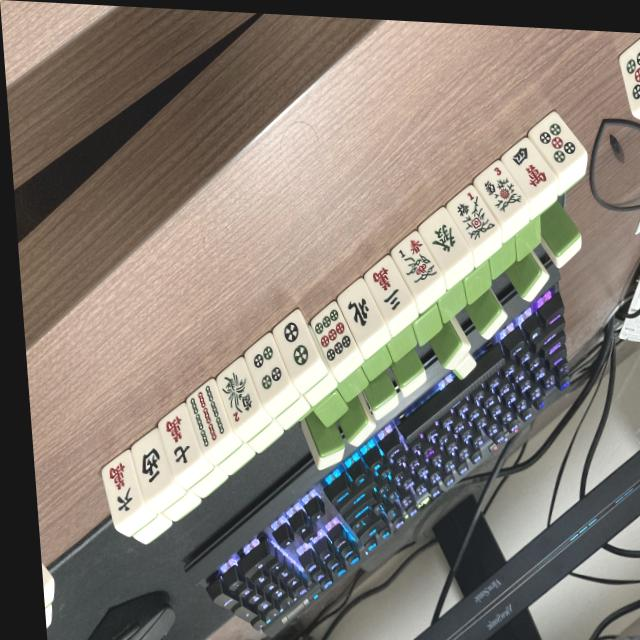f1: (445, 185, 503, 251)
f2: (210, 361, 265, 429)
f3: (472, 160, 532, 225)
fa: (415, 207, 473, 272)
ff1: (387, 230, 445, 295)
m3: (360, 257, 417, 322)
m4: (500, 136, 562, 203)
m6: (97, 450, 150, 526)
m7: (154, 404, 207, 475)
north: (336, 280, 388, 342)
s9: (179, 379, 236, 452)
t2: (269, 309, 325, 379)
t4: (241, 334, 295, 402)
t5: (523, 109, 590, 180), (617, 38, 640, 113)
t9: (307, 303, 360, 369)
west: (126, 430, 177, 500)
